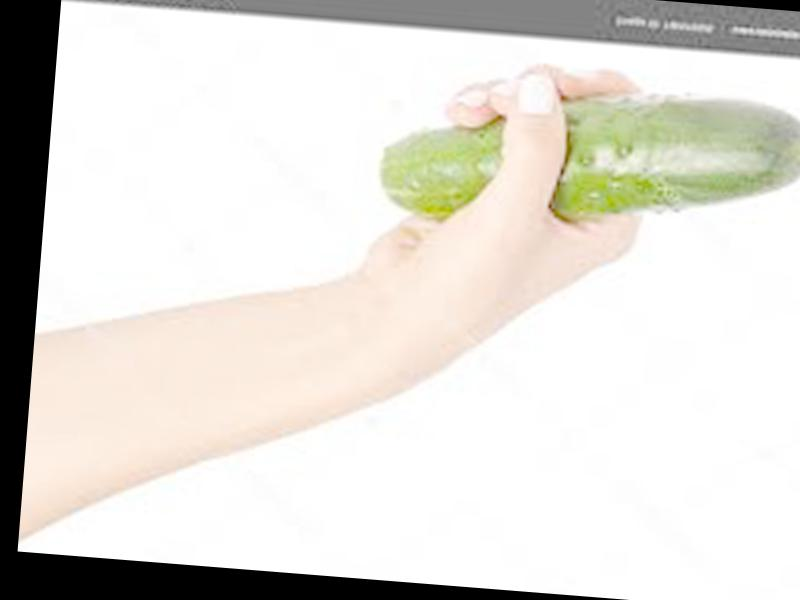Cucumber: (379, 71, 800, 249)
